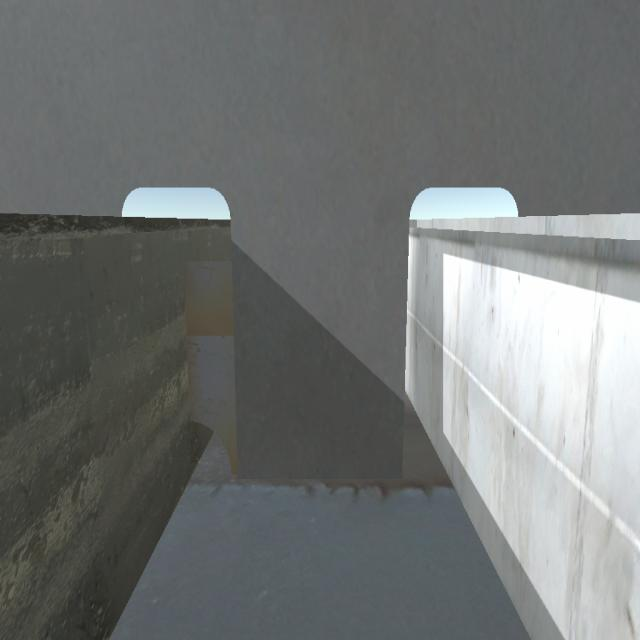fillet_yong_jeop_jang: (237, 468, 405, 484)
longi_yong_jeop_jang: (181, 254, 191, 423)
plate_behind: (183, 260, 238, 478)
